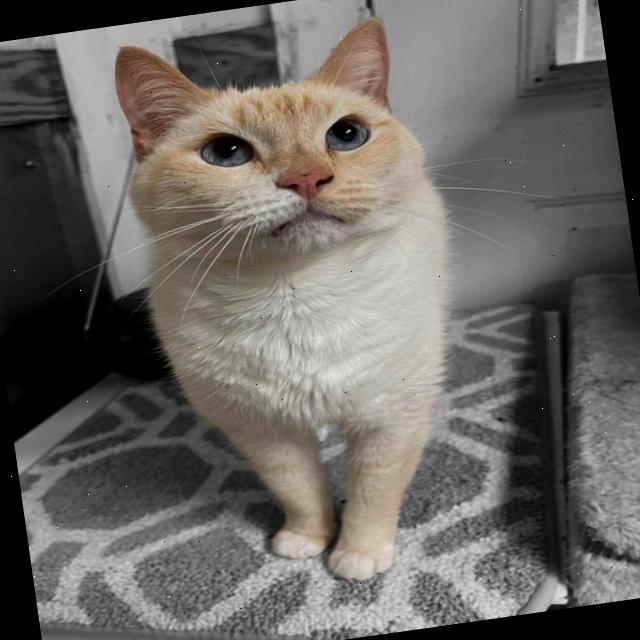manx_cat: (88, 0, 470, 310)
